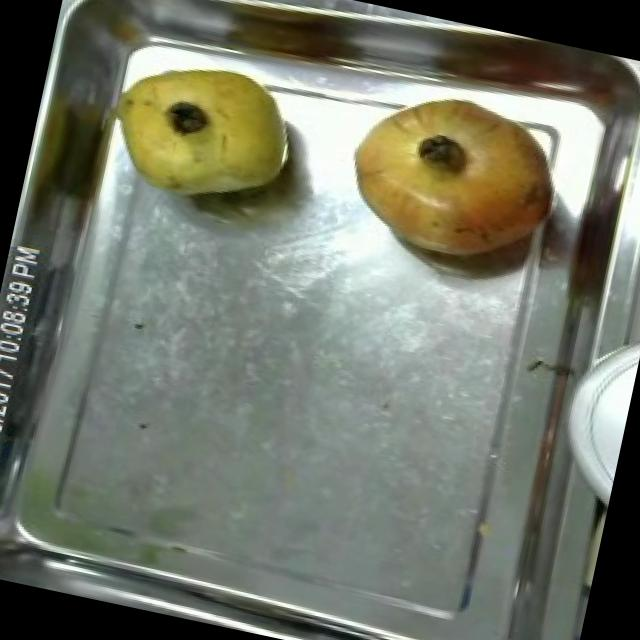fruit: (317, 70, 578, 286), (88, 45, 309, 224)
